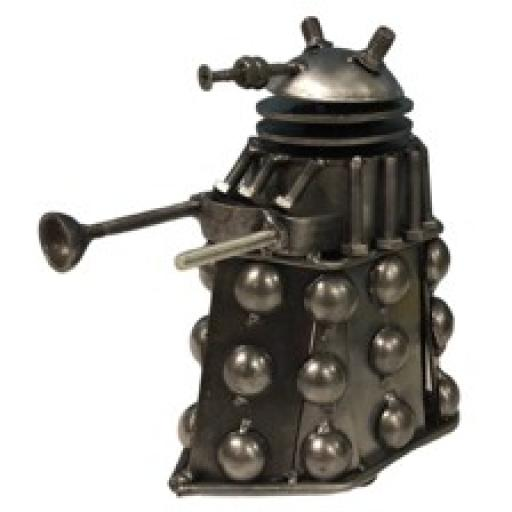dalek: (25, 16, 466, 494)
